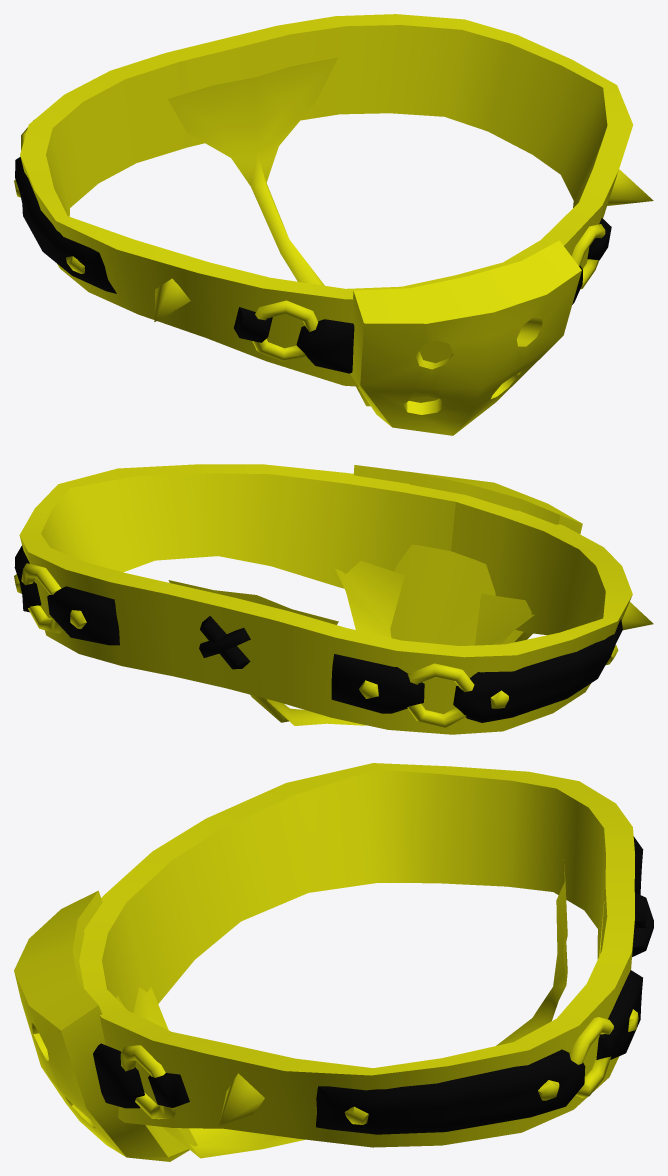
The model's file is MSH_Generic_Armorset_01_Waist.fbx.
3 renders of one model, top to bottom at view 1: azimuth 30°, elevation 25°; view 2: azimuth 150°, elevation 25°; view 3: azimuth 270°, elevation 25°, orthographic. The views are drawn at different scales.
Parts seen in each view (by area): view 1: Generic_Armorset_01_Waist; view 2: Generic_Armorset_01_Waist; view 3: Generic_Armorset_01_Waist.
Boxes of the visible parts, left/top/right/bottom form: Generic_Armorset_01_Waist: left=14, top=14, right=653, bottom=435; Generic_Armorset_01_Waist: left=14, top=464, right=653, bottom=734; Generic_Armorset_01_Waist: left=14, top=763, right=653, bottom=1161.
Bounding box in the file's own units: 0.7049 × 0.291 × 0.6104.
